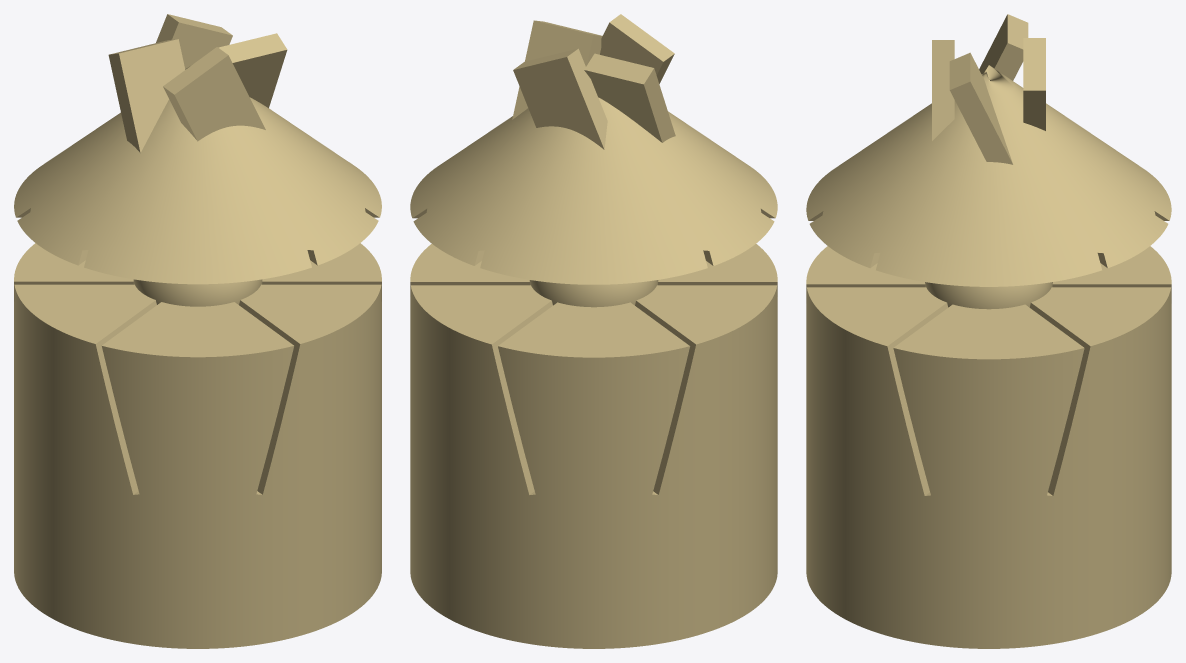
Rendered from seed.glb.
The picture shows the model from 3 angles, left to right: view 1: azimuth 30°, elevation 25°; view 2: azimuth 150°, elevation 25°; view 3: azimuth 270°, elevation 25°; orthographic projection.
Size of the model in its own units: 0.016 by 0.0258 by 0.016.
